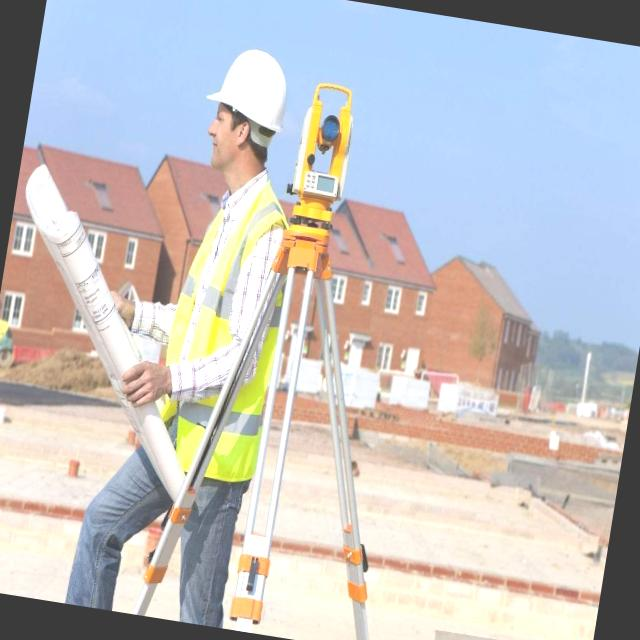helmet: (200, 39, 298, 152)
vest: (137, 158, 290, 503)
